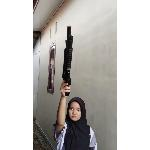Senapan: (56, 25, 77, 103)
